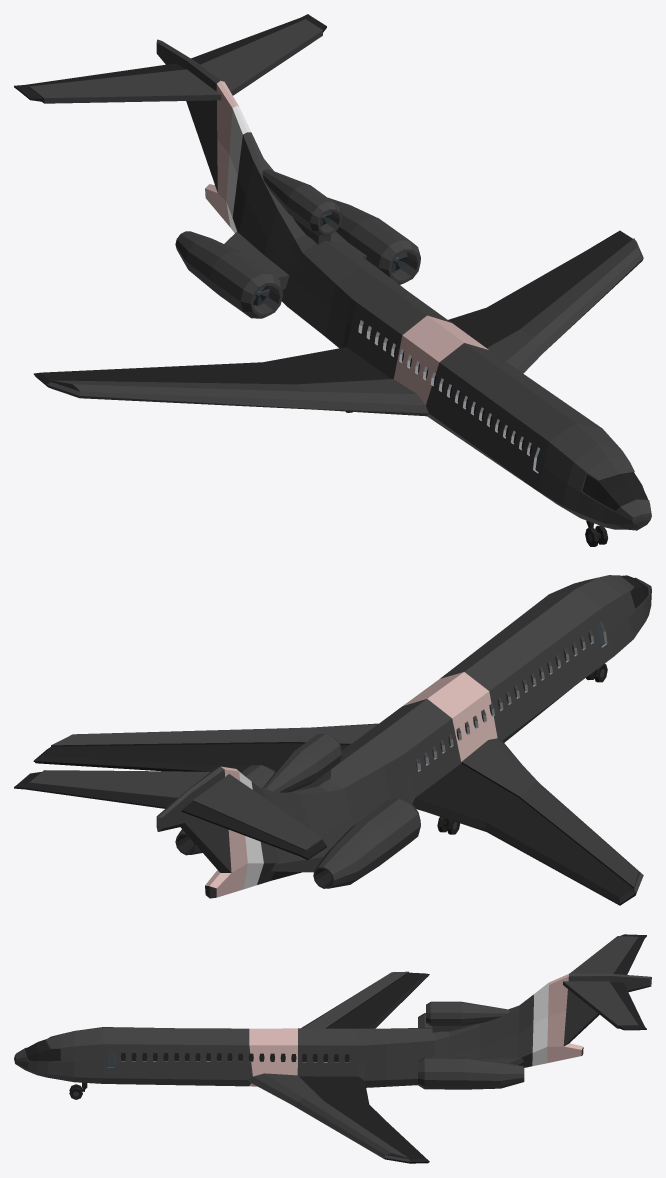
Rendered from ComPlaneV2.glb.
The picture shows the model from 3 angles, top to bottom: view 1: azimuth 30°, elevation 25°; view 2: azimuth 150°, elevation 25°; view 3: azimuth 270°, elevation 25°; orthographic projection. The views are drawn at different scales.
Visible parts, largest first — view 1: ComPlaneV2; view 2: ComPlaneV2; view 3: ComPlaneV2.
Part boxes in pixels (x1,y1,x2,y2): ComPlaneV2: [14, 14, 651, 530]; ComPlaneV2: [14, 575, 651, 905]; ComPlaneV2: [14, 934, 651, 1163].
Bounding box in the file's own units: 2.2 × 0.6784 × 3.15.
1 material, 1 textured.
